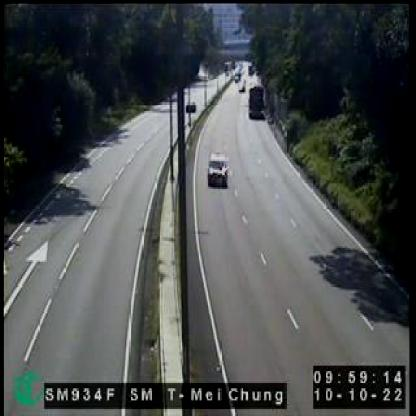Car: (207, 151, 228, 188)
Truck: (248, 84, 264, 119)
